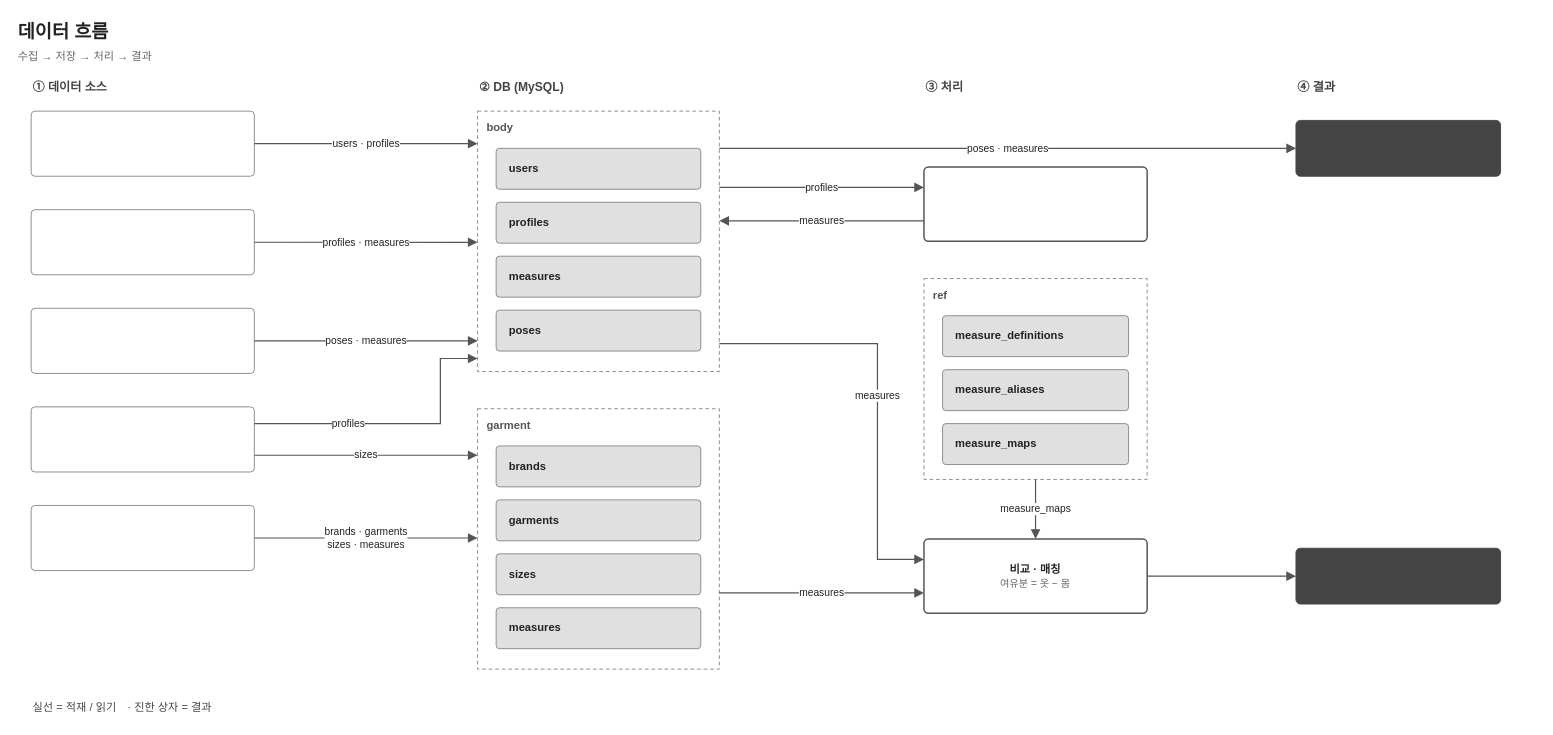
Some shapes in this 1553 by 735 pixel diagram are drawn without their labels. The shapes that lost their labels are listed below. From the top down, each one's centre as x and y in pixels, then its label:
At [142,143]: "사용자 입력 (앱) 성별 · 나이 · 키 · 몸무게 · 체지방".
At [1398,148]: "3D 몸 모델".
At [1035,204]: "AI 추정 모델 체형 → 부위 치수".
At [142,242]: "fetch / body ansur2 · bodym · nhanes".
At [142,340]: "fetch / model anny · clad_body · uniqlo_body_size_pred".
At [142,439]: "fetch / fit uniqlo 리뷰 · musinsa".
At [142,538]: "fetch / garment uniqlo · kobo · zozotown …".
At [1398,575]: "사이즈 추천".
